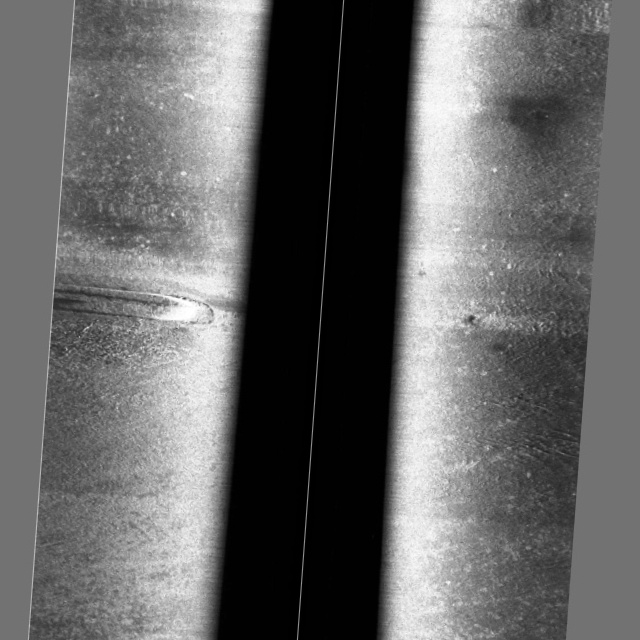Shipwreck: (52, 282, 212, 324)
